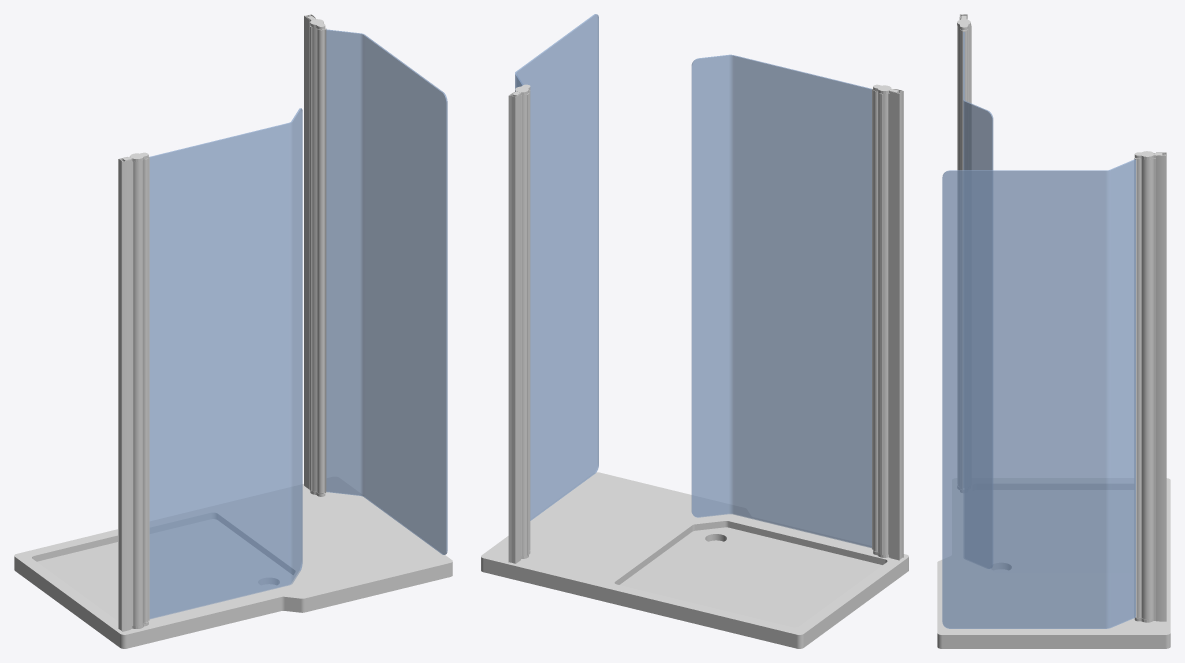
Rendered from doccia.glb.
The picture shows the model from 3 angles, left to right: view 1: azimuth 30°, elevation 25°; view 2: azimuth 150°, elevation 25°; view 3: azimuth 270°, elevation 25°; orthographic projection.
Visible parts, largest first — view 1: Geom3D (×4), Geom3D_Wall profile 1, Geom3D_Profile 42, Geom3D_Profile 21, Geom3D_Profile 41, Geom3D_Wall Profile 2, Geom3D_Profile 22; view 2: Geom3D (×3), Geom3D_Wall profile 1, Geom3D_Wall Profile 2, Geom3D_Profile 21, Geom3D_Profile 22, Geom3D_Profile 41, Geom3D_Profile 42; view 3: Geom3D (×5), Geom3D_Wall Profile 2, Geom3D_Profile 22, Geom3D_Profile 42, Geom3D_Profile 41, Geom3D_Profile 21.
Boxes of the visible parts, bbox=[...] form: Geom3D (×4): bbox=[14, 27, 452, 648]; Geom3D_Wall profile 1: bbox=[118, 156, 131, 631]; Geom3D_Profile 42: bbox=[317, 30, 326, 492]; Geom3D_Profile 21: bbox=[131, 161, 138, 626]; Geom3D_Profile 41: bbox=[143, 158, 149, 622]; Geom3D_Wall Profile 2: bbox=[304, 14, 315, 489]; Geom3D_Profile 22: bbox=[309, 22, 313, 491]; Geom3D (×3): bbox=[481, 14, 908, 648]; Geom3D_Wall profile 1: bbox=[890, 89, 903, 560]; Geom3D_Wall Profile 2: bbox=[508, 92, 520, 563]; Geom3D_Profile 21: bbox=[878, 93, 890, 555]; Geom3D_Profile 22: bbox=[521, 93, 529, 556]; Geom3D_Profile 41: bbox=[872, 90, 877, 550]; Geom3D_Profile 42: bbox=[529, 91, 530, 549]; Geom3D (×5): bbox=[937, 19, 1170, 648]; Geom3D_Wall Profile 2: bbox=[1156, 152, 1166, 621]; Geom3D_Profile 22: bbox=[1148, 158, 1155, 619]; Geom3D_Profile 42: bbox=[1134, 159, 1141, 617]; Geom3D_Profile 41: bbox=[960, 30, 967, 488]; Geom3D_Profile 21: bbox=[957, 19, 971, 170].
Size of the model in its own units: 1.45 by 2.06 by 0.9082.
